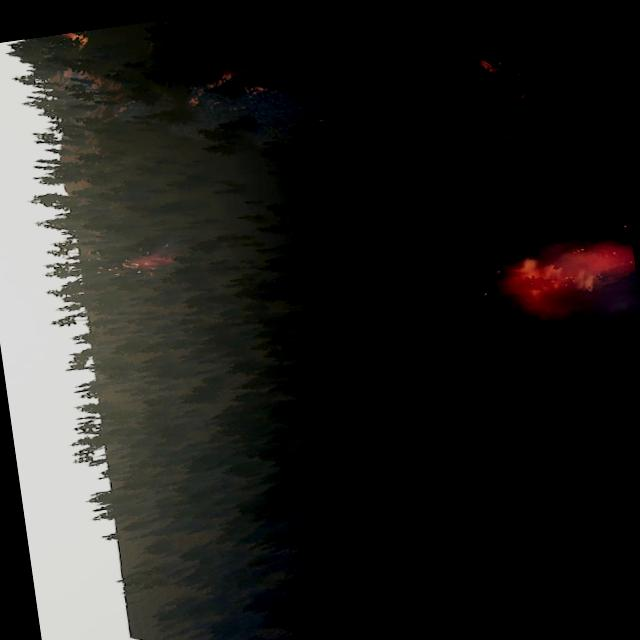fire: (494, 234, 640, 317), (123, 251, 174, 274), (64, 30, 88, 47)
smoke: (417, 195, 640, 353)
